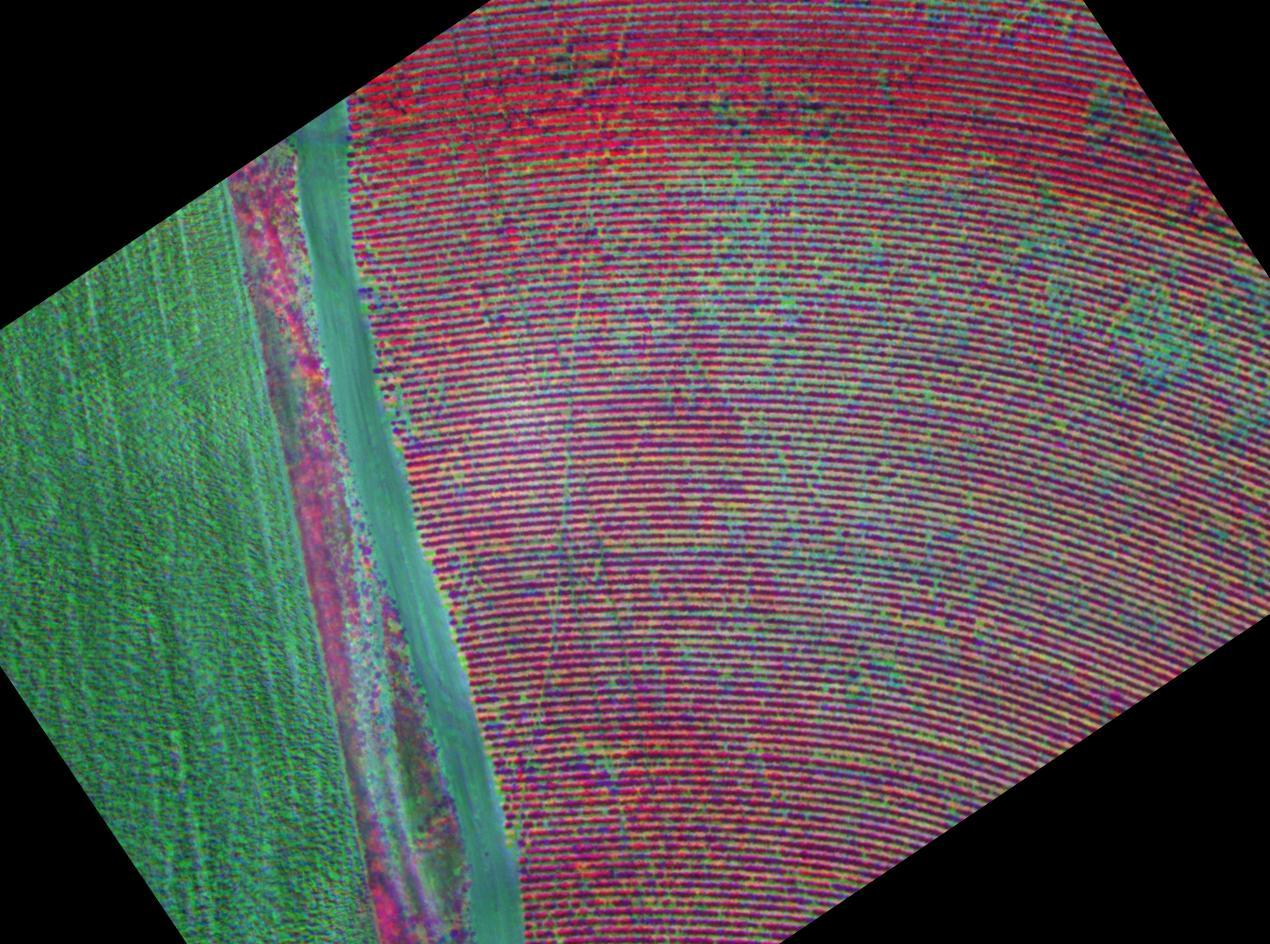dc: (1060, 421, 1064, 426), (1131, 298, 1134, 302), (1163, 347, 1166, 351)
